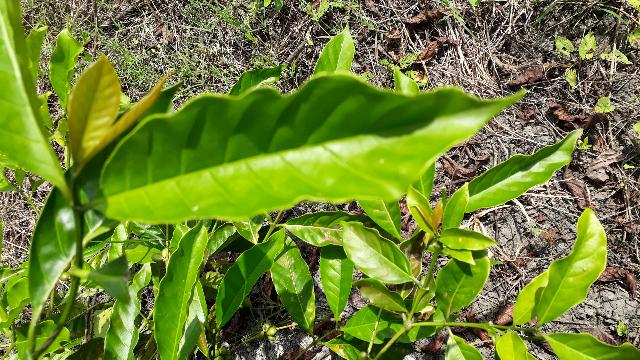healthy: (94, 72, 525, 219)
